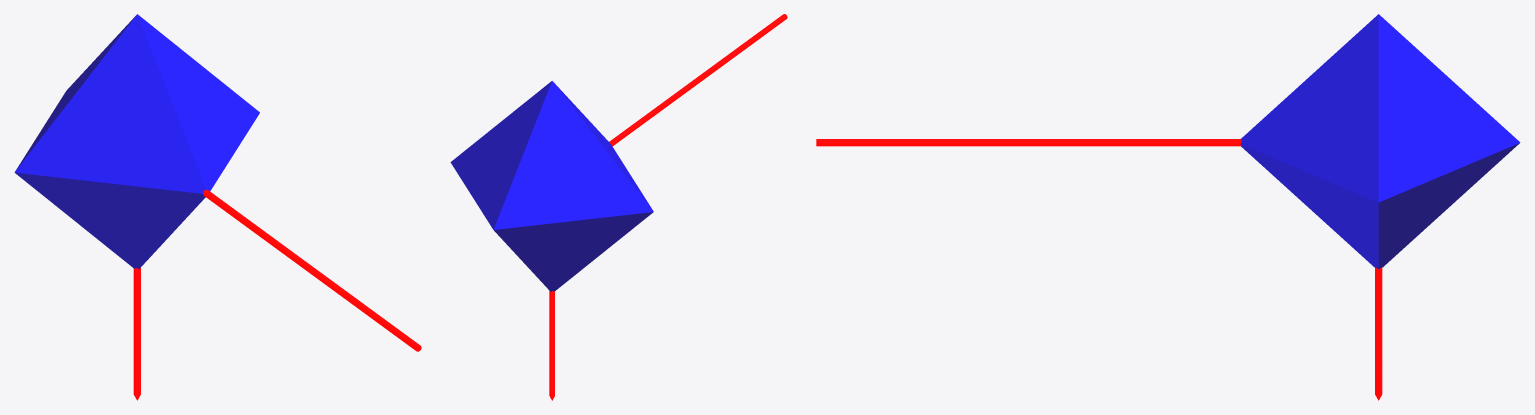
The model's file is octoEva.fbx.
3 renders of one model, left to right at view 1: azimuth 30°, elevation 25°; view 2: azimuth 150°, elevation 25°; view 3: azimuth 270°, elevation 25°, orthographic. The views are drawn at different scales.
Visible parts, largest first — view 1: Shape, ForwardLazer, DownLazer; view 2: Shape, ForwardLazer, DownLazer; view 3: Shape, ForwardLazer, DownLazer.
Boxes of the visible parts, left/top/right/bottom form: Shape: left=14, top=14, right=259, bottom=268; ForwardLazer: left=203, top=189, right=421, bottom=351; DownLazer: left=133, top=267, right=140, bottom=400; Shape: left=450, top=81, right=653, bottom=291; ForwardLazer: left=609, top=14, right=787, bottom=146; DownLazer: left=549, top=291, right=554, bottom=400; Shape: left=1240, top=14, right=1520, bottom=269; ForwardLazer: left=816, top=139, right=1241, bottom=146; DownLazer: left=1375, top=267, right=1382, bottom=400.
Bounding box in the file's own units: 200 × 301 × 496.
